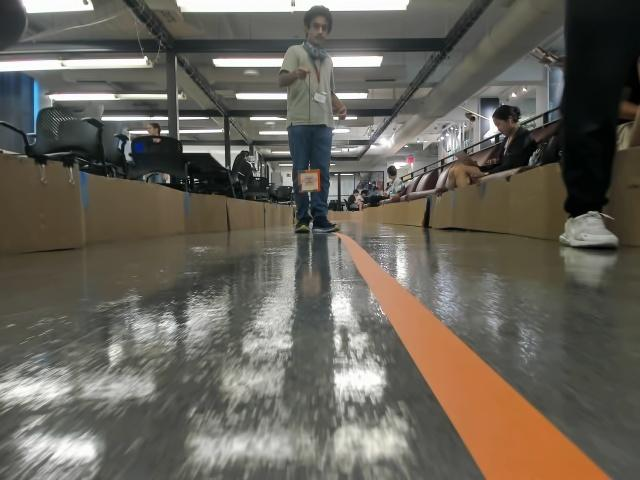Do Not Go Around: (301, 175, 316, 186)
